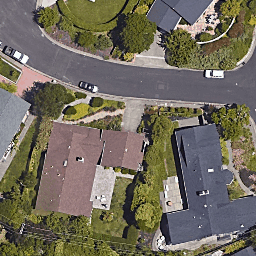car: (4, 43, 29, 65), (78, 81, 99, 93), (204, 68, 225, 79)
